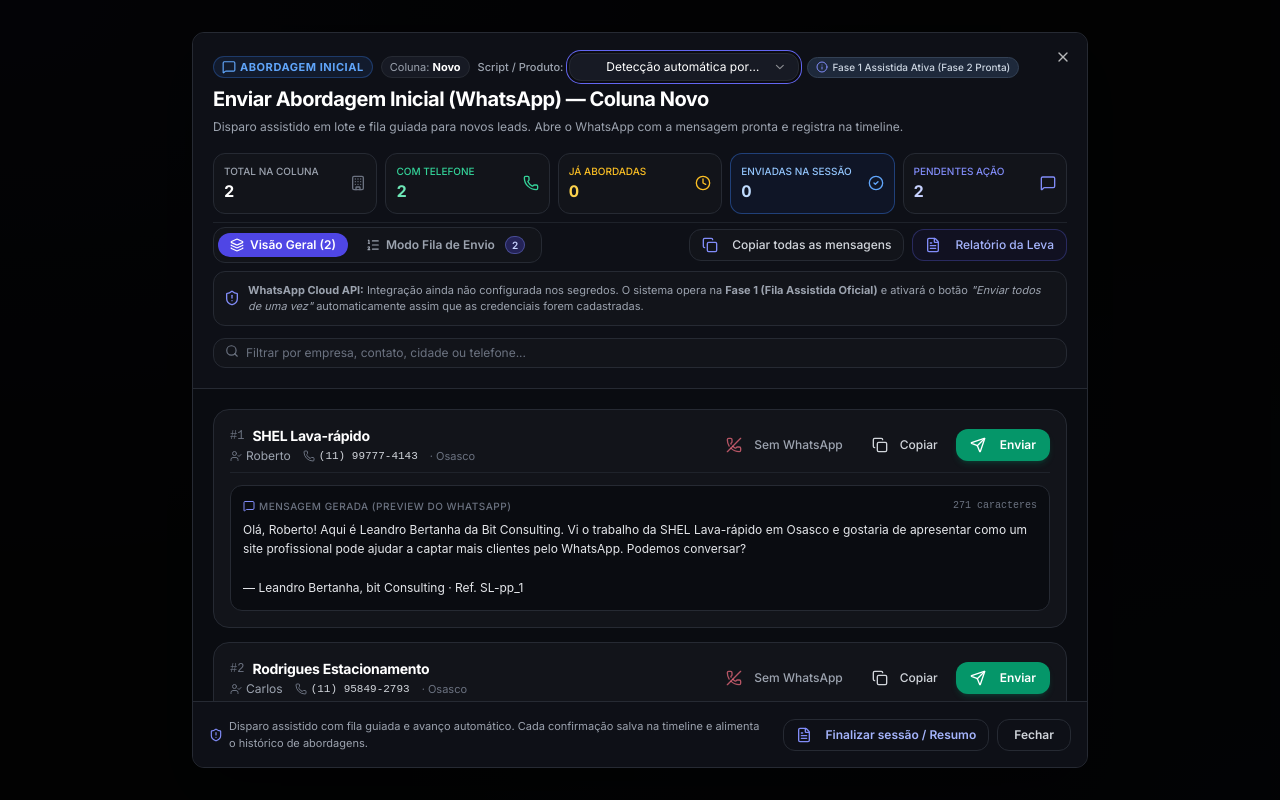
Test: BatchWhatsAppModal — Status Enviada em Azul › ao confirmar marcar como perdido: move estágio para Perdido, grava nota na timeline, atualiza o item e contadores
Note: Clicar no botão "Sem WhatsApp" do primeiro item
Click the button with test id "btn-mark-lost-opp_1". click: (785,444)
box: [715,428,854,460]
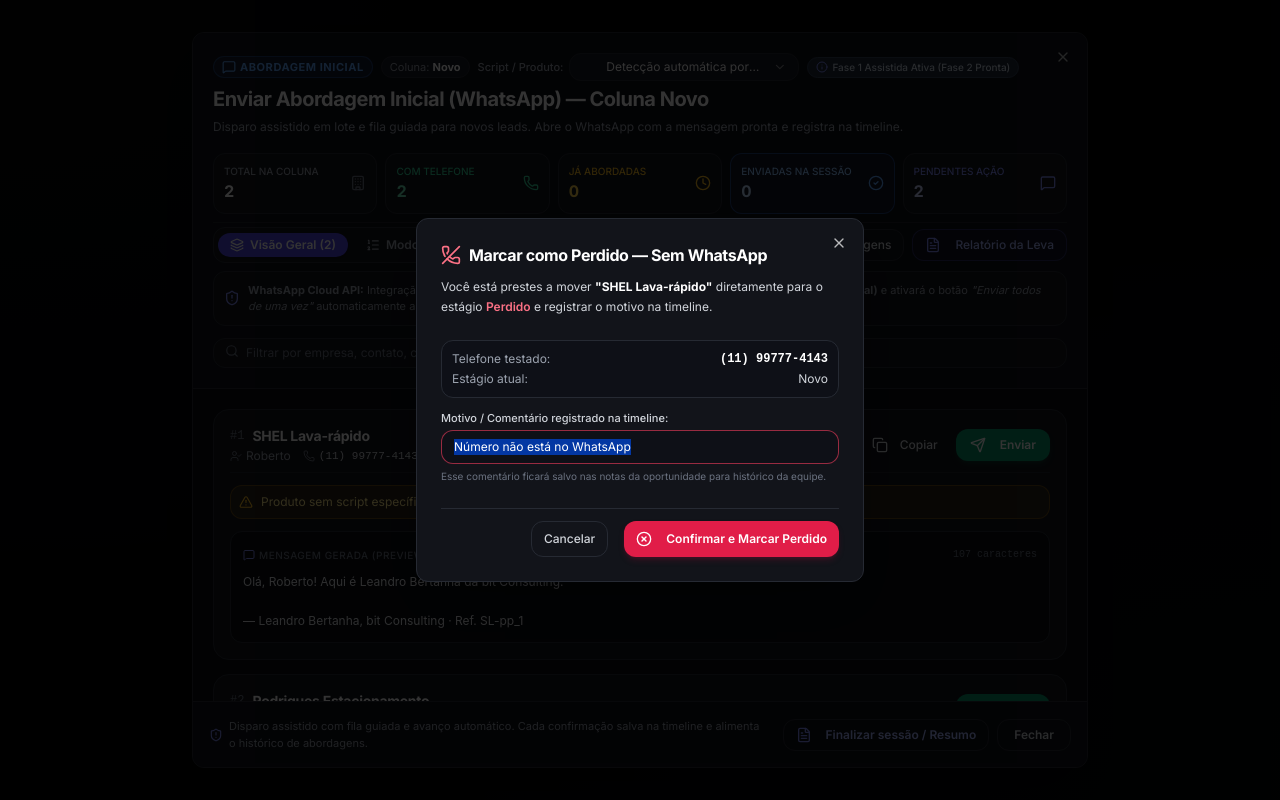
Note: Personalizar o comentário
Replace the text in the field with test id "input-lost-comment" with "Número não existe no WhatsApp e chamada dá caixa postal". click: (640,447)
box: [441,430,839,464]
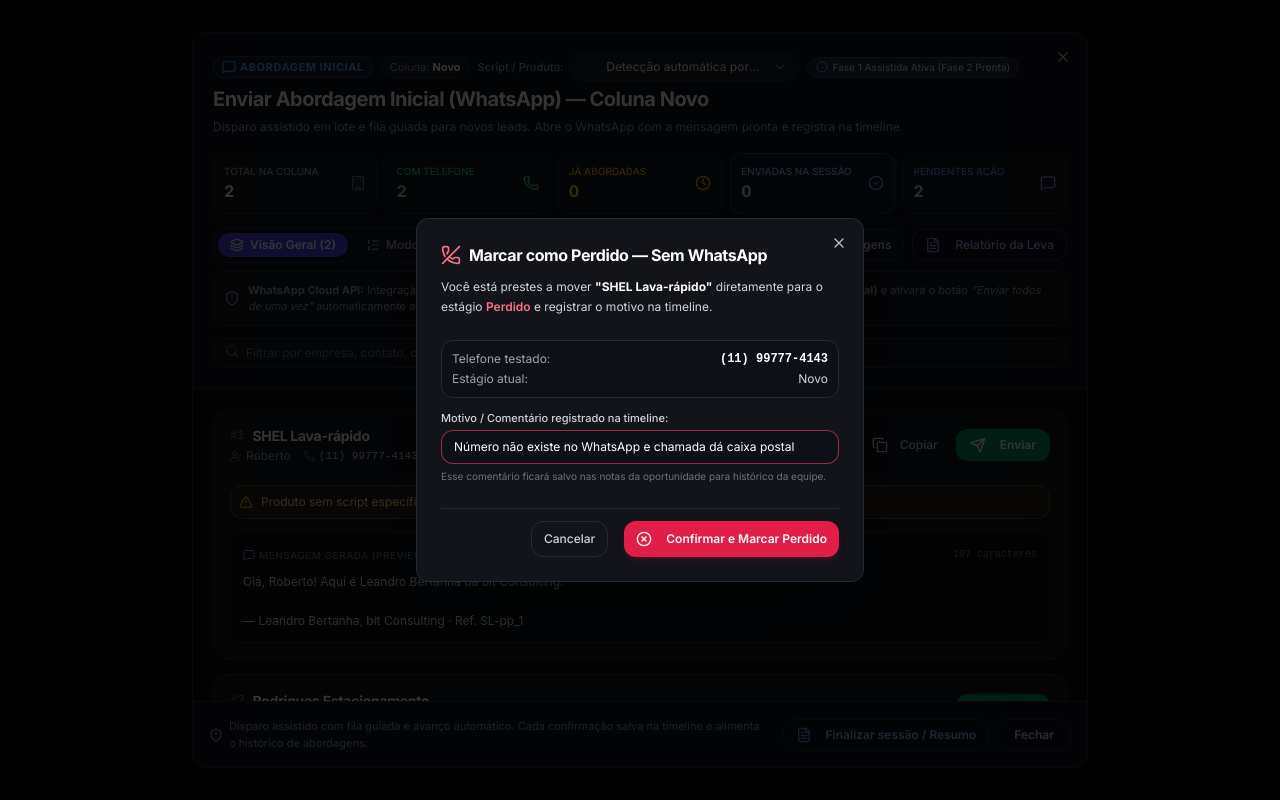
Note: Confirmar a ação
Click the button with test id "btn-confirm-mark-lost". click: (732,539)
box: [624,521,839,557]
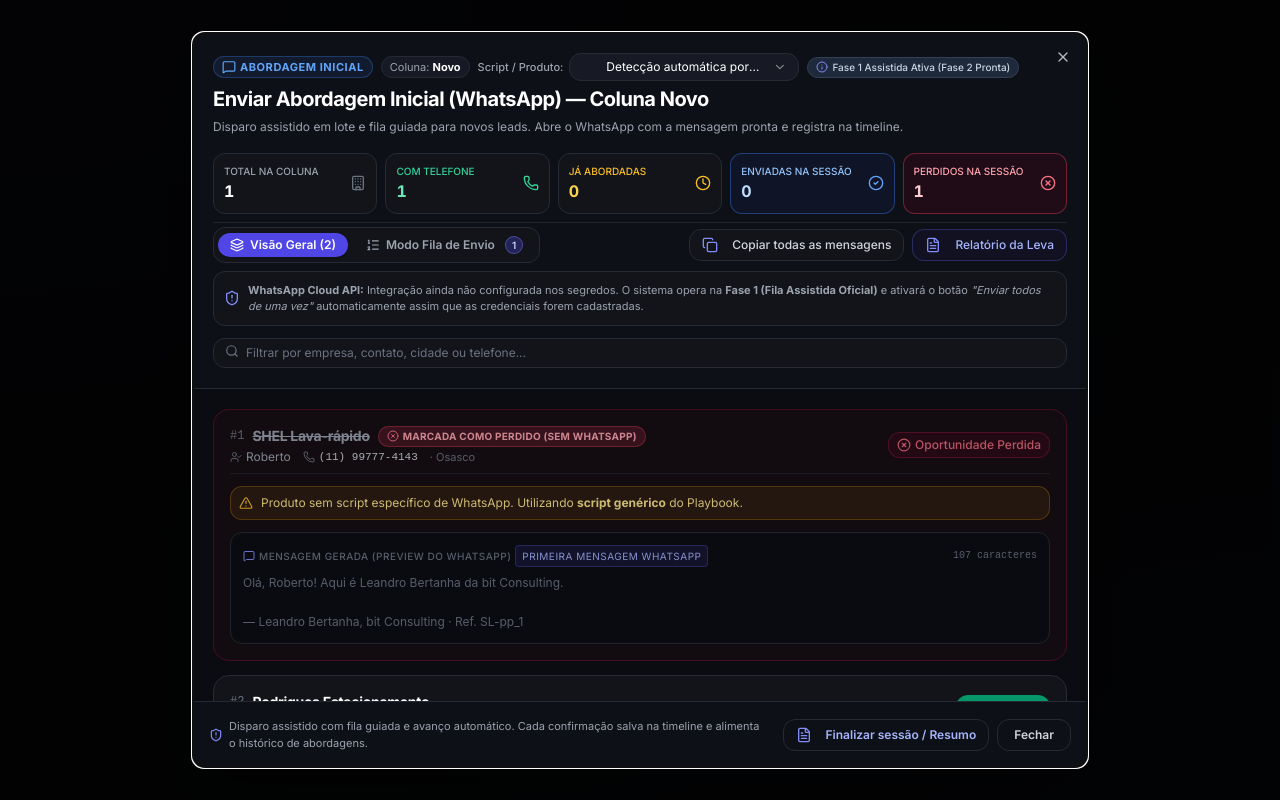
Check: the element with test id "status-badge-perdido-opp_1" is shown, box [378,426,646,446]
Check: the element with test id "status-badge-perdido-opp_1" reads "Marcada como Perdido (Sem WhatsApp)", box [403,430,637,442]
Check: the button with test id "btn-send-opp_1" is gone
